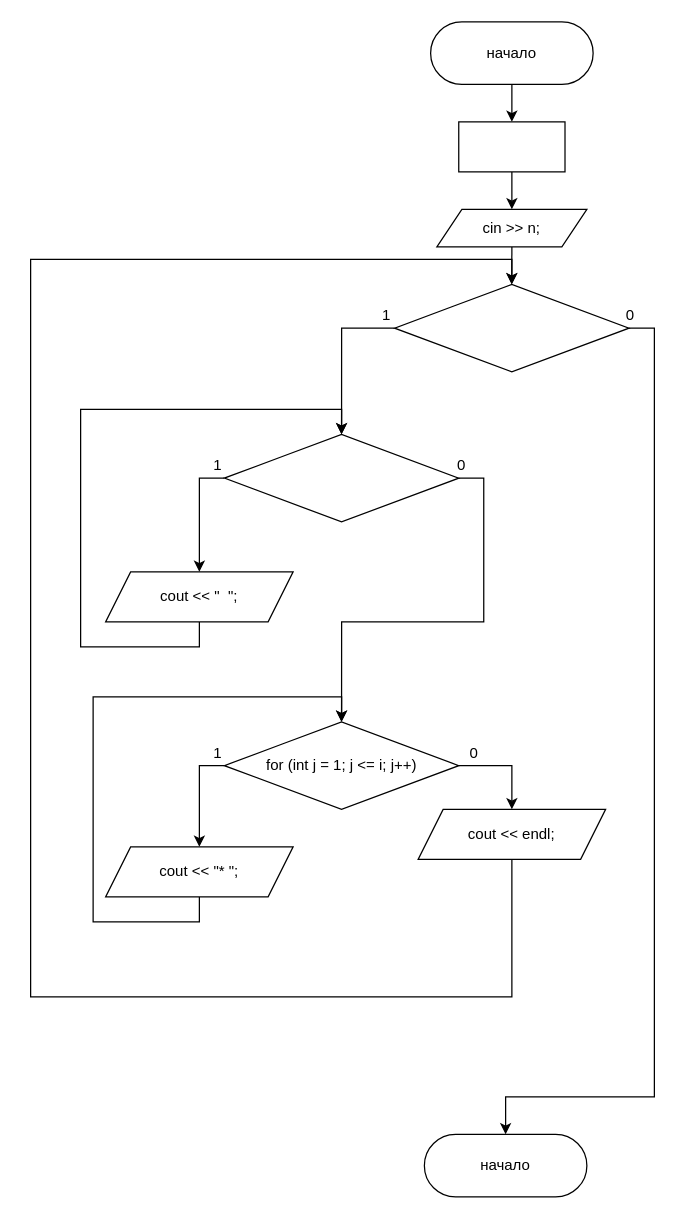
Image size: 690x1219. Some labels were removed from this diagram. The box of each missing label's shape, as (x1, y1, x2, y2) in pixels:
for (int i = 1; i <= n; i++): (393, 283, 629, 372)
for (int j = n - i; j >= 0; j--): (223, 433, 459, 522)
int n,i,j;: (458, 121, 565, 172)
